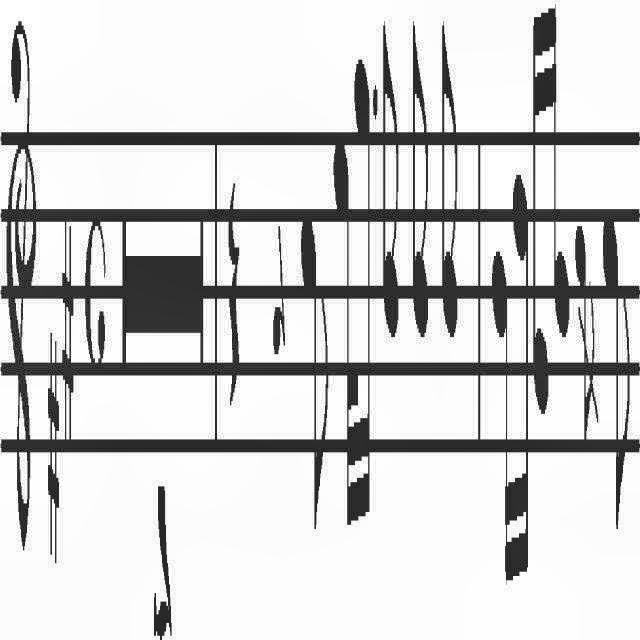Bass-clef: (6, 24, 38, 564)
Diez: (60, 217, 76, 445), (48, 333, 61, 563)
Eighth-note: (600, 212, 632, 538), (298, 213, 329, 532), (440, 12, 460, 350), (382, 27, 400, 340), (412, 12, 428, 348)
Eighth-rest: (273, 210, 287, 370)
Quarter-rest: (226, 178, 242, 422)
Sixteenth-note: (511, 161, 531, 594), (490, 241, 510, 599), (550, 0, 570, 342), (532, 18, 548, 426), (358, 45, 370, 543)
